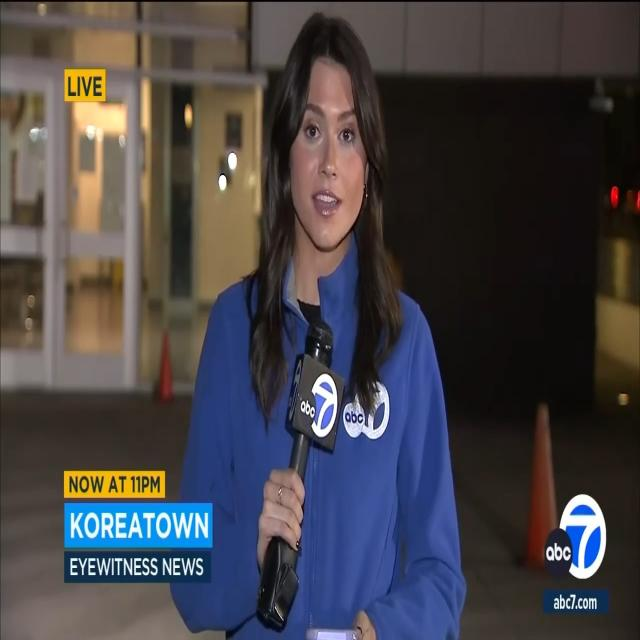microphone: (252, 318, 362, 639)
